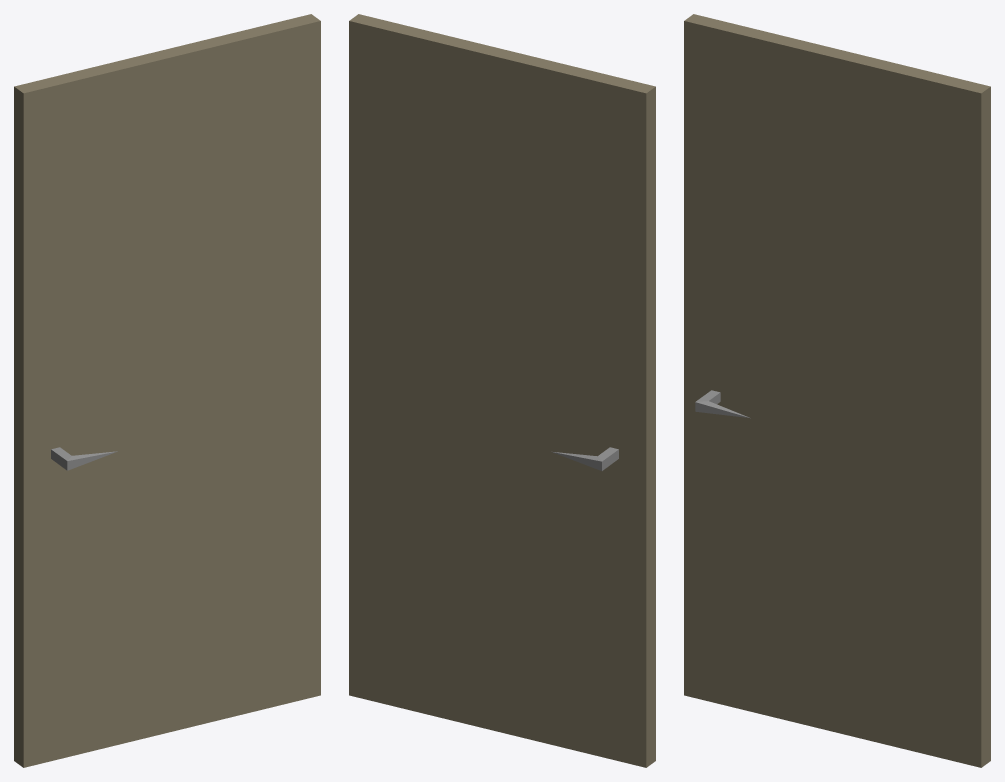
File: Brown Metal Door.glb
3 views of the same model, side by side, from view 1: azimuth 30°, elevation 25°; view 2: azimuth 150°, elevation 25°; view 3: azimuth 330°, elevation 25° (orthographic).
Visible parts, largest first — view 1: Door; view 2: Door; view 3: Door.
Part boxes in pixels (x1,y1,x2,y2): Door: [14, 14, 320, 767]; Door: [349, 14, 655, 767]; Door: [684, 14, 990, 767].
Size of the model in its own units: 1.29 by 2.8 by 0.3216.
